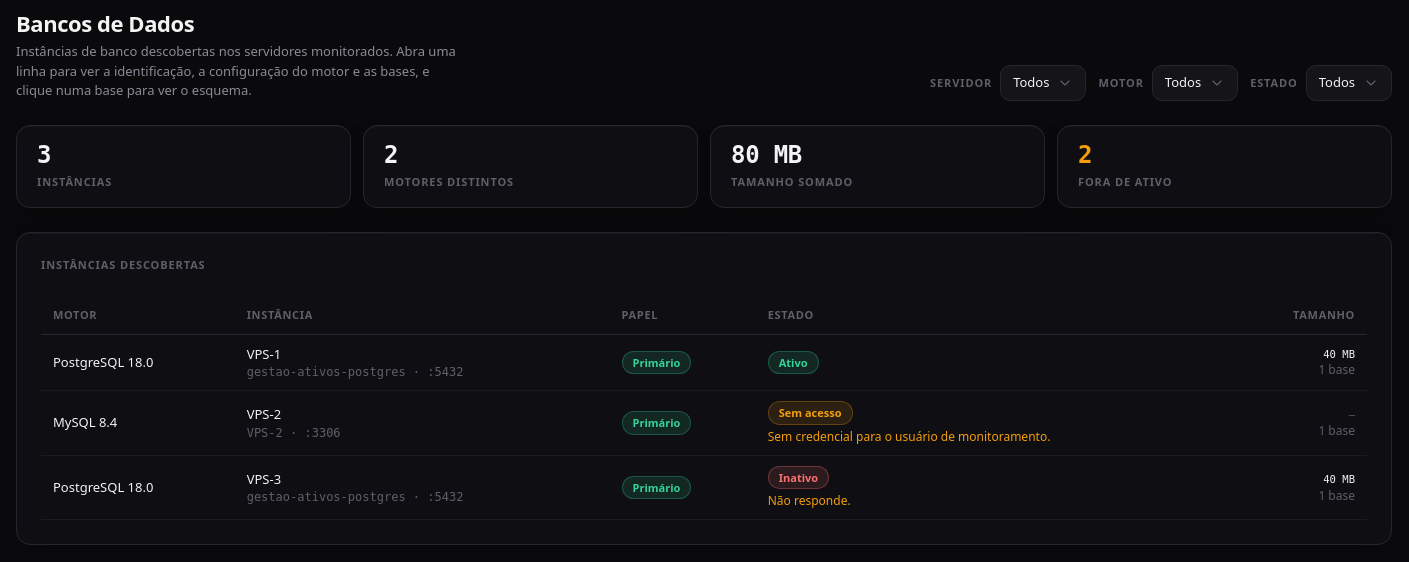
Scenario: BancosView — filtros › o filtro de servidor reduz a lista
This screenshot has width=1409, height=562.
Expected: the number of buttons with test id "instancia" is 3, [41, 334, 1367, 391]; [41, 391, 1367, 455]; [41, 455, 1367, 520]
Click the dropdown named "Servidor" at (1043, 83), box [1000, 65, 1086, 101]
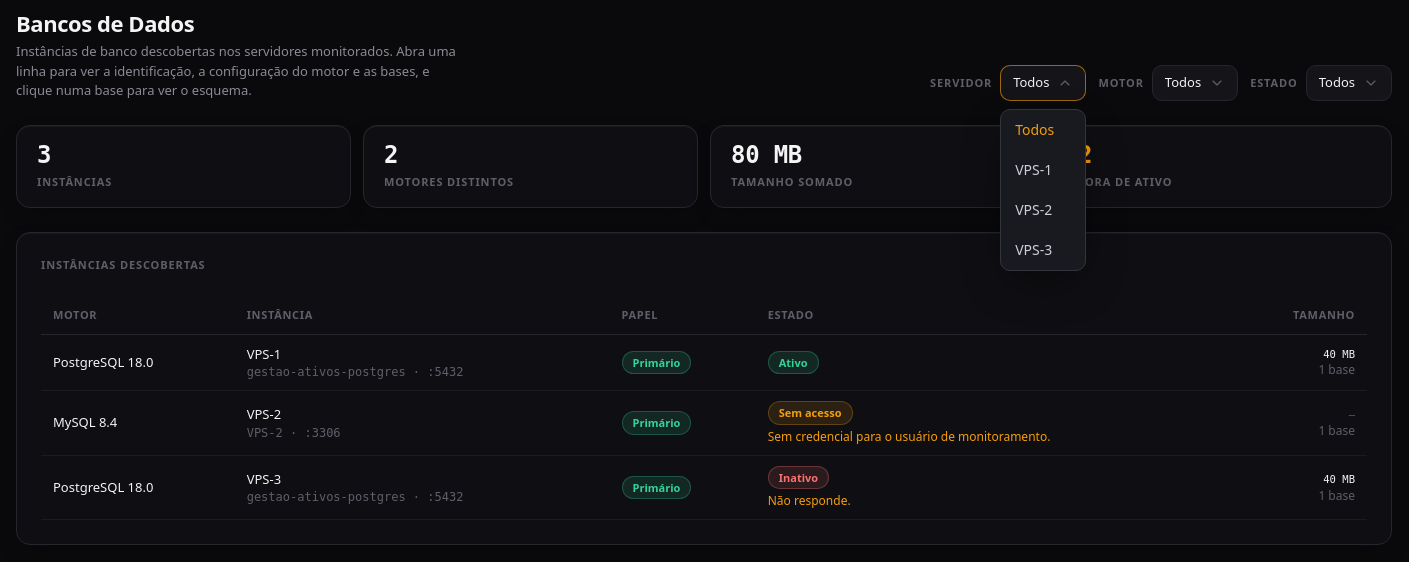
Click the option "VPS-2" at (1034, 209), box [1015, 200, 1052, 219]
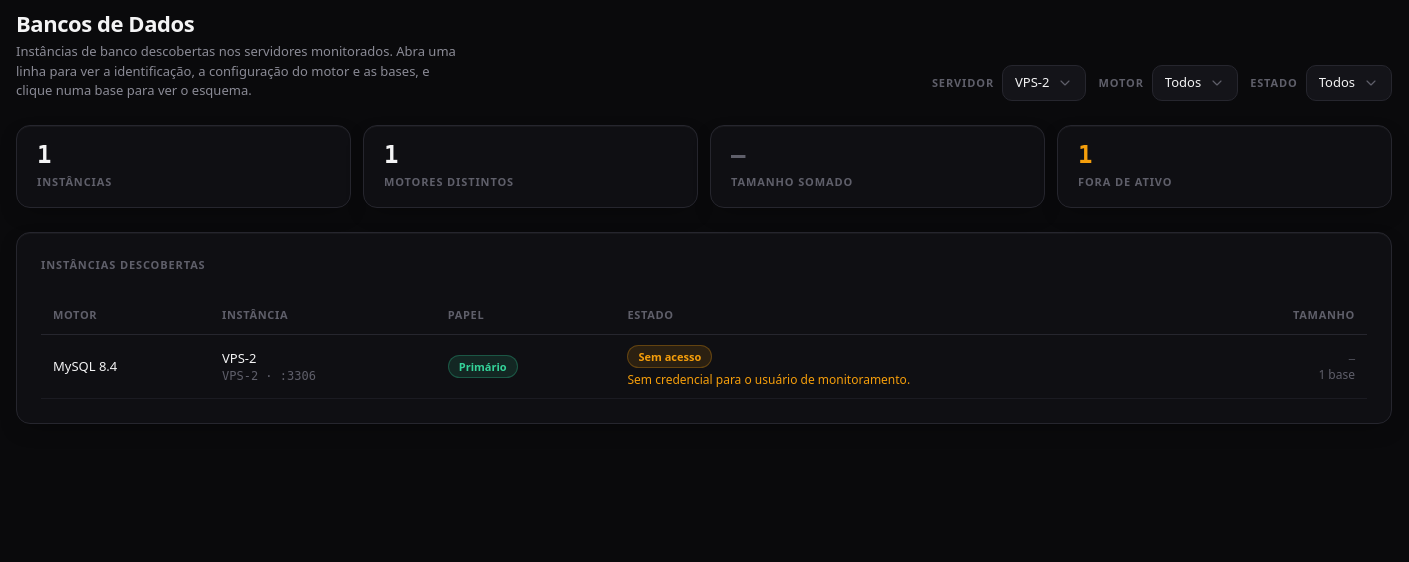
Expected: the text "VPS-2" below "Papel" is shown, [222, 349, 256, 367]
Expected: the number of buttons with test id "instancia" is 1, [41, 334, 1367, 399]
